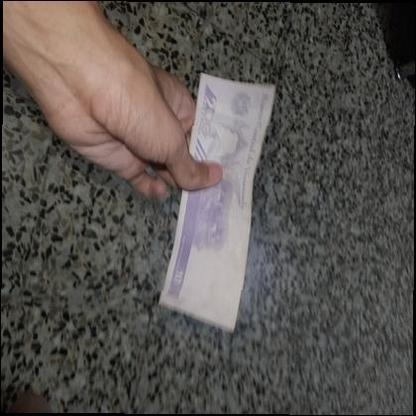ten-back-vef: (159, 74, 276, 331)
